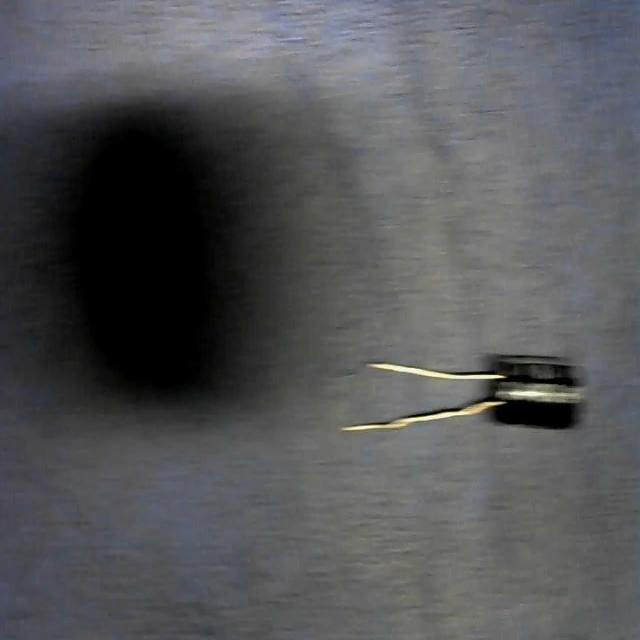capacitor: (344, 351, 581, 437)
